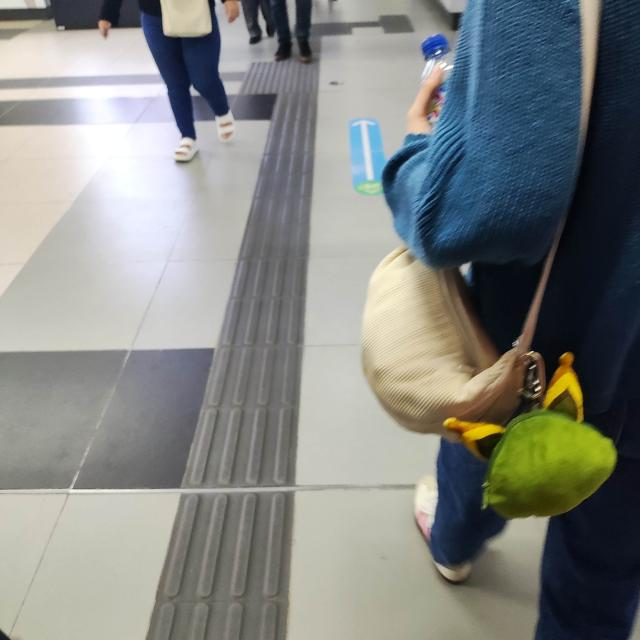lurus: (180, 140, 308, 640)
